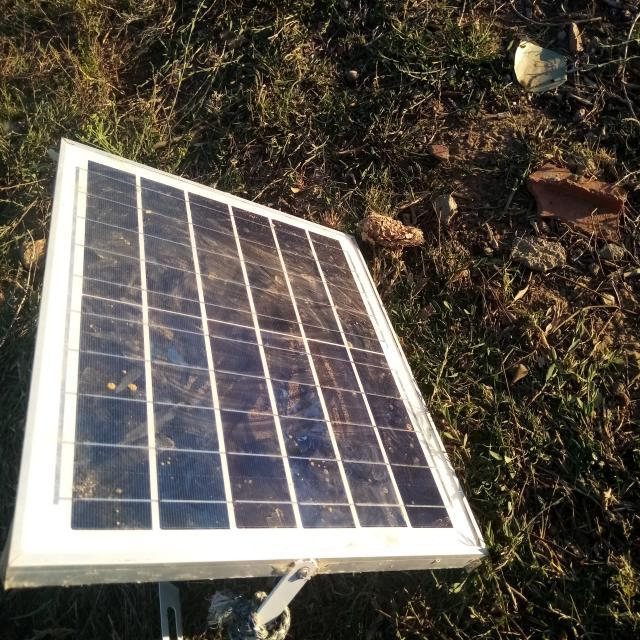faulty: (12, 139, 483, 566)
